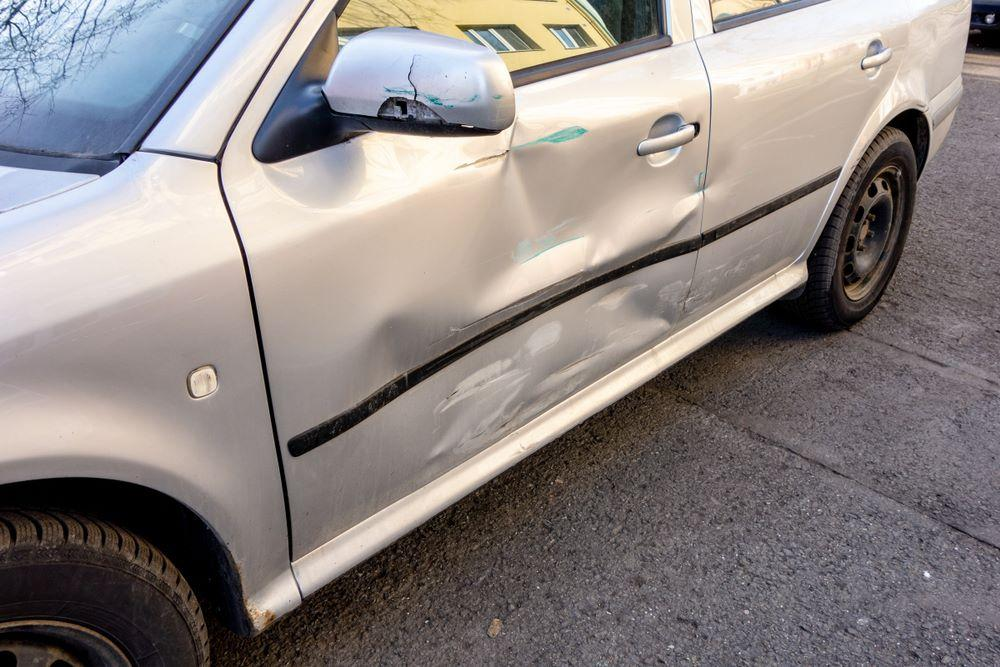crack: (407, 52, 421, 101)
dent: (373, 123, 696, 453), (705, 142, 736, 202)
scratch: (698, 237, 781, 301)
